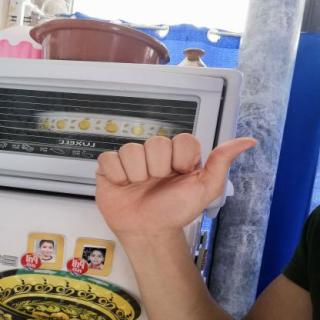DAD: (82, 125, 266, 248)
